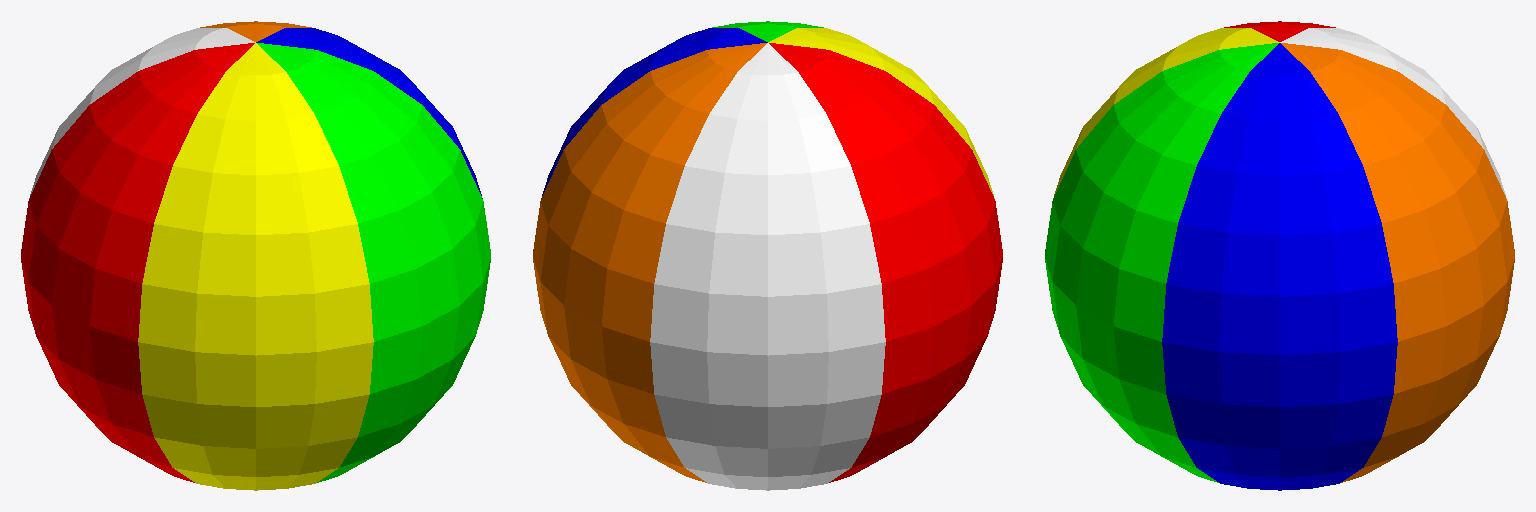
Rendered from beachballNew.obj.
3 views of the same model, side by side, from view 1: azimuth 30°, elevation 25°; view 2: azimuth 150°, elevation 25°; view 3: azimuth 270°, elevation 25° (orthographic).
Visible parts, largest first — view 1: Mesh1 Bola_de_praia1 Bola_de_Praia_1_1 Model; view 2: Mesh1 Bola_de_praia1 Bola_de_Praia_1_1 Model; view 3: Mesh1 Bola_de_praia1 Bola_de_Praia_1_1 Model.
Part boxes in pixels (bbox=[...]): Mesh1 Bola_de_praia1 Bola_de_Praia_1_1 Model: bbox=[21, 21, 490, 490]; Mesh1 Bola_de_praia1 Bola_de_Praia_1_1 Model: bbox=[533, 21, 1002, 490]; Mesh1 Bola_de_praia1 Bola_de_Praia_1_1 Model: bbox=[1045, 21, 1514, 490].
Size of the model in its own units: 136 by 136 by 136.